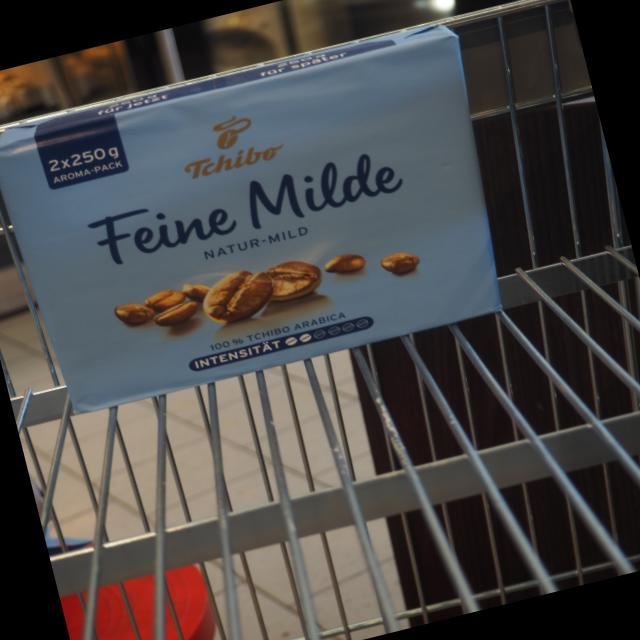FM Gemahlen: (0, 10, 535, 429)
